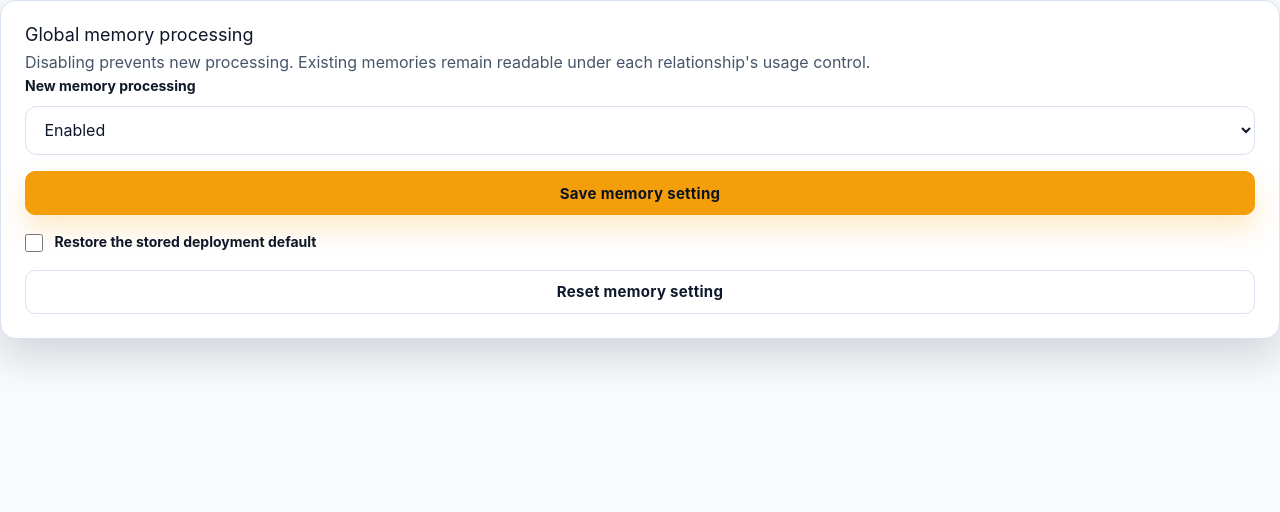
Test: renders every validation message returned for the memory setting
The image size is (1280, 512).
Click the button "Save memory setting" at {"x": 640, "y": 193}, box [25,171,1255,215]
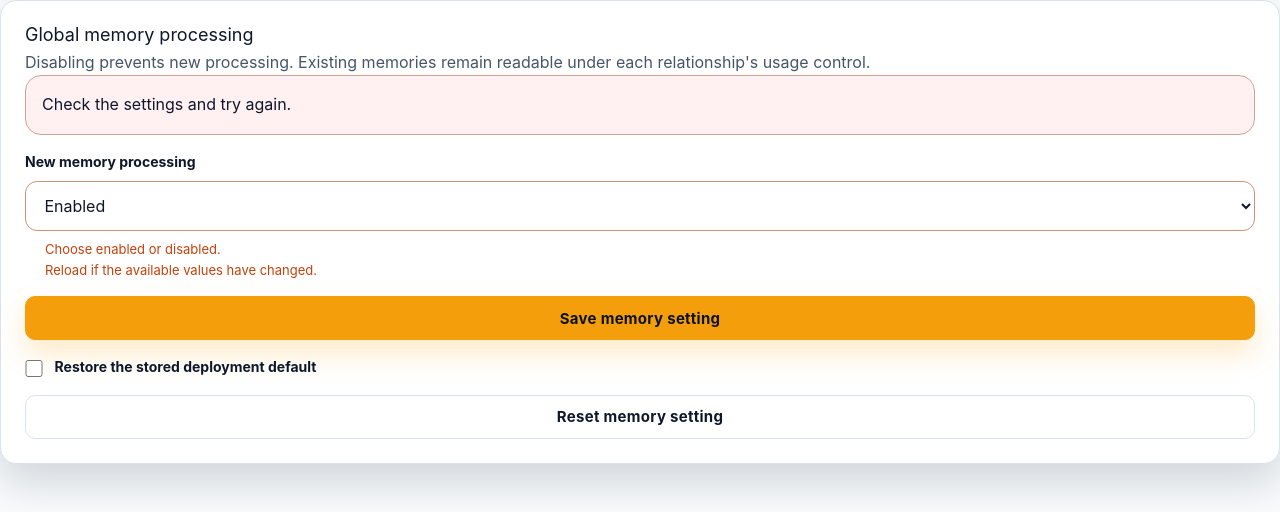
Now the list item "Choose enabled or disabled." is shown, box [45,241,221,257]
Now the list item "Reload if the available values have changed." is shown, box [45,262,317,278]
